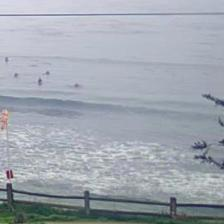surfer: (38, 77, 42, 85), (4, 56, 9, 62), (13, 72, 18, 78), (46, 70, 51, 75), (74, 82, 78, 88)
